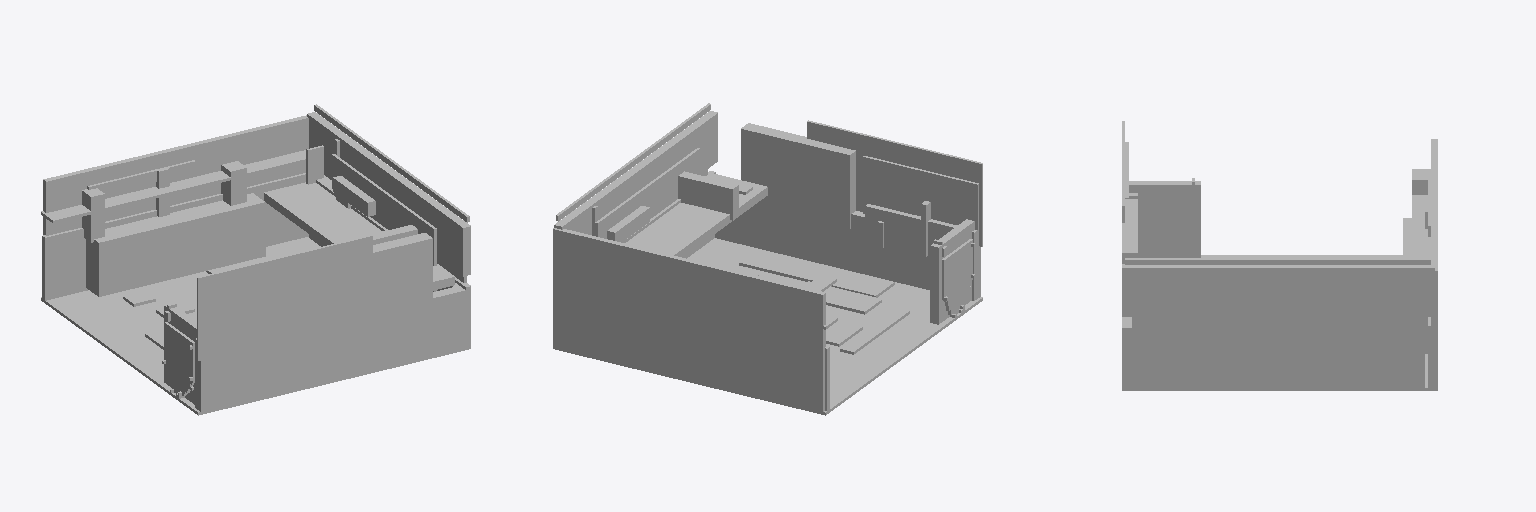
Rendered from 防具店.obj.
The picture shows the model from 3 angles: view 1: azimuth 30°, elevation 25°; view 2: azimuth 150°, elevation 25°; view 3: azimuth 270°, elevation 25°; orthographic projection.
Bounding box in the file's own units: 100 × 48 × 100.